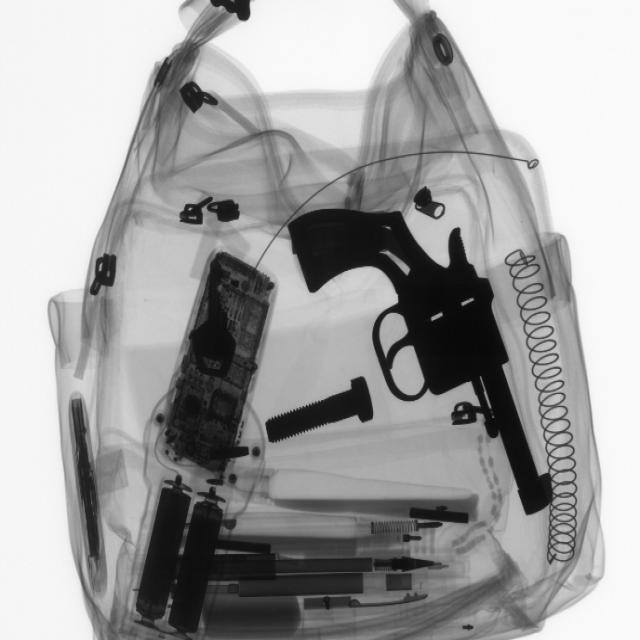GUN: (284, 204, 559, 512)
